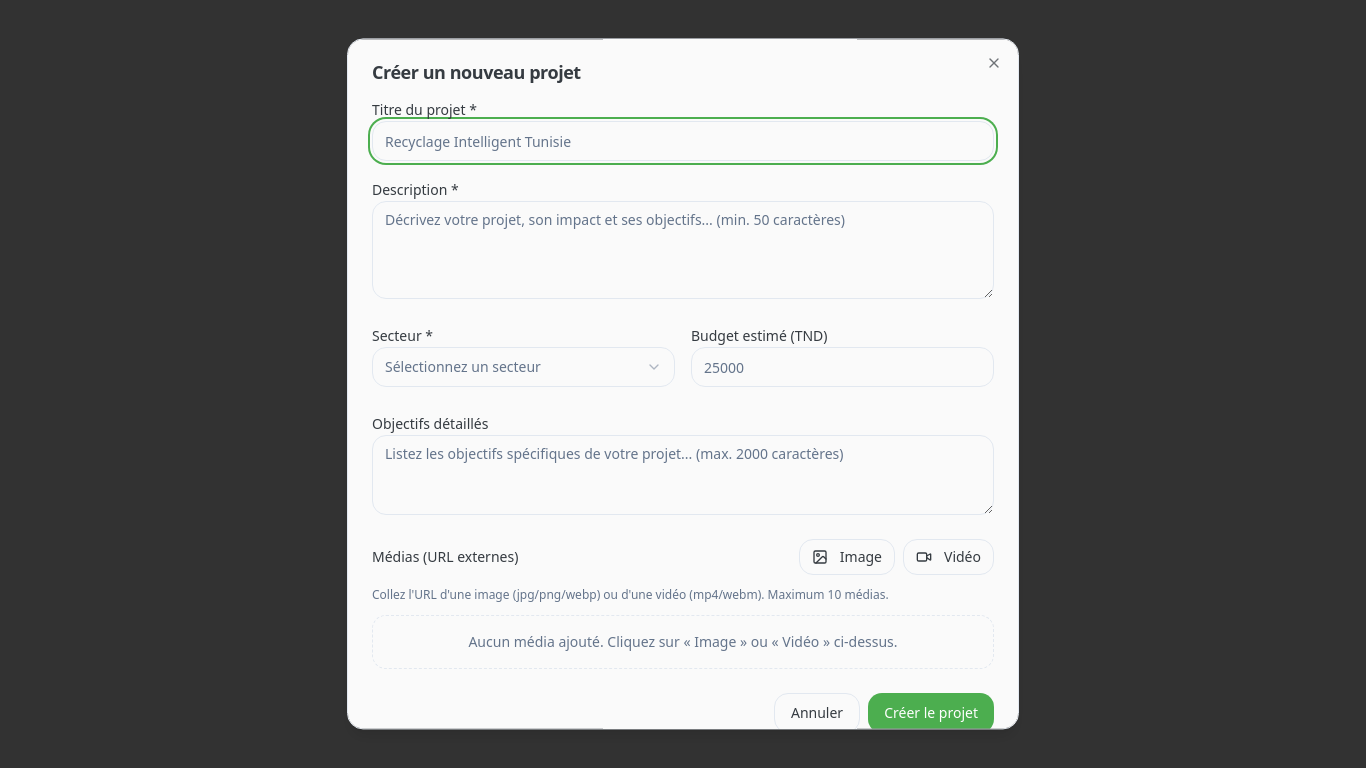
it: CreateProjectModal — submit flow snapshot › removes a media row when the trash button is clicked
Click the button "Image" at (847, 557), box [799,539,895,575]
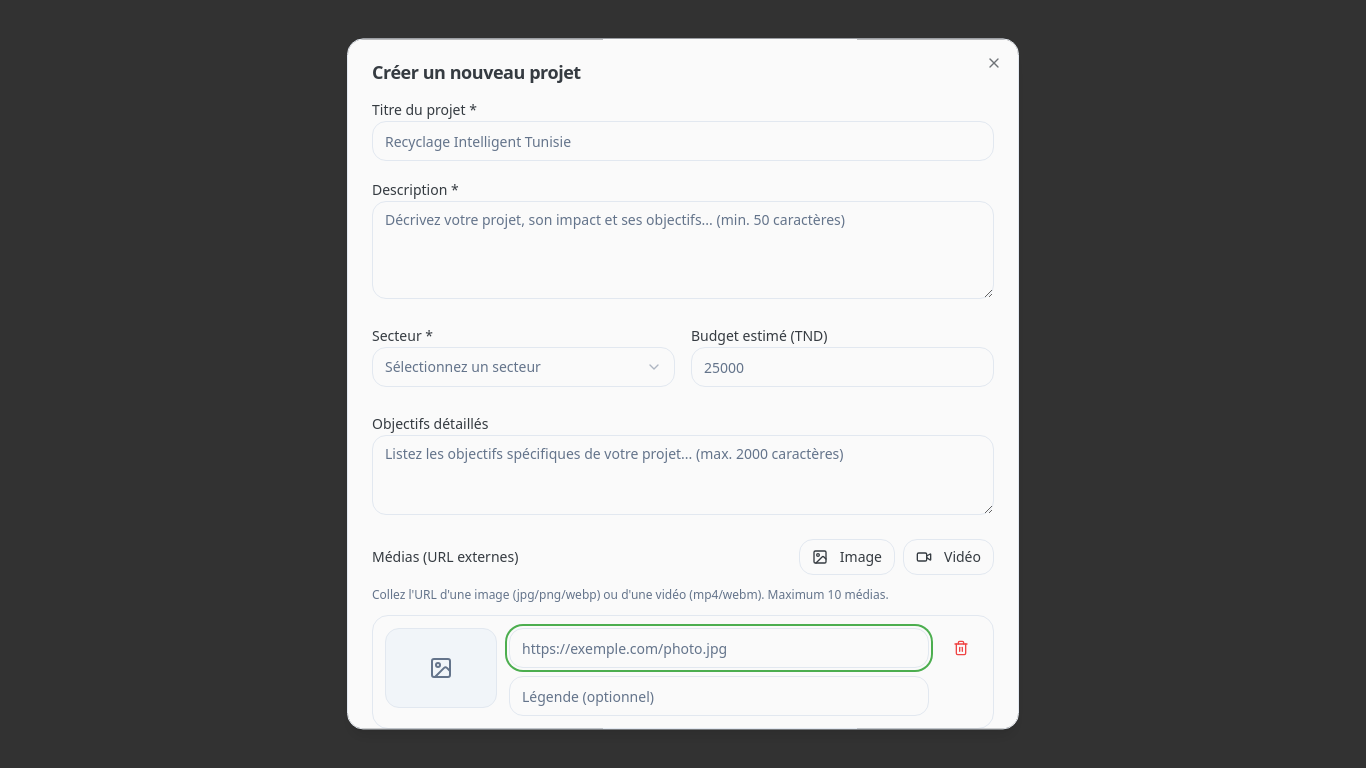
Check: the field with placeholder "https://exemple.com/photo.jpg" is shown, box [509,628,929,668]
Click the button named "Supprimer le média 1" at (961, 648), box [941,628,981,668]
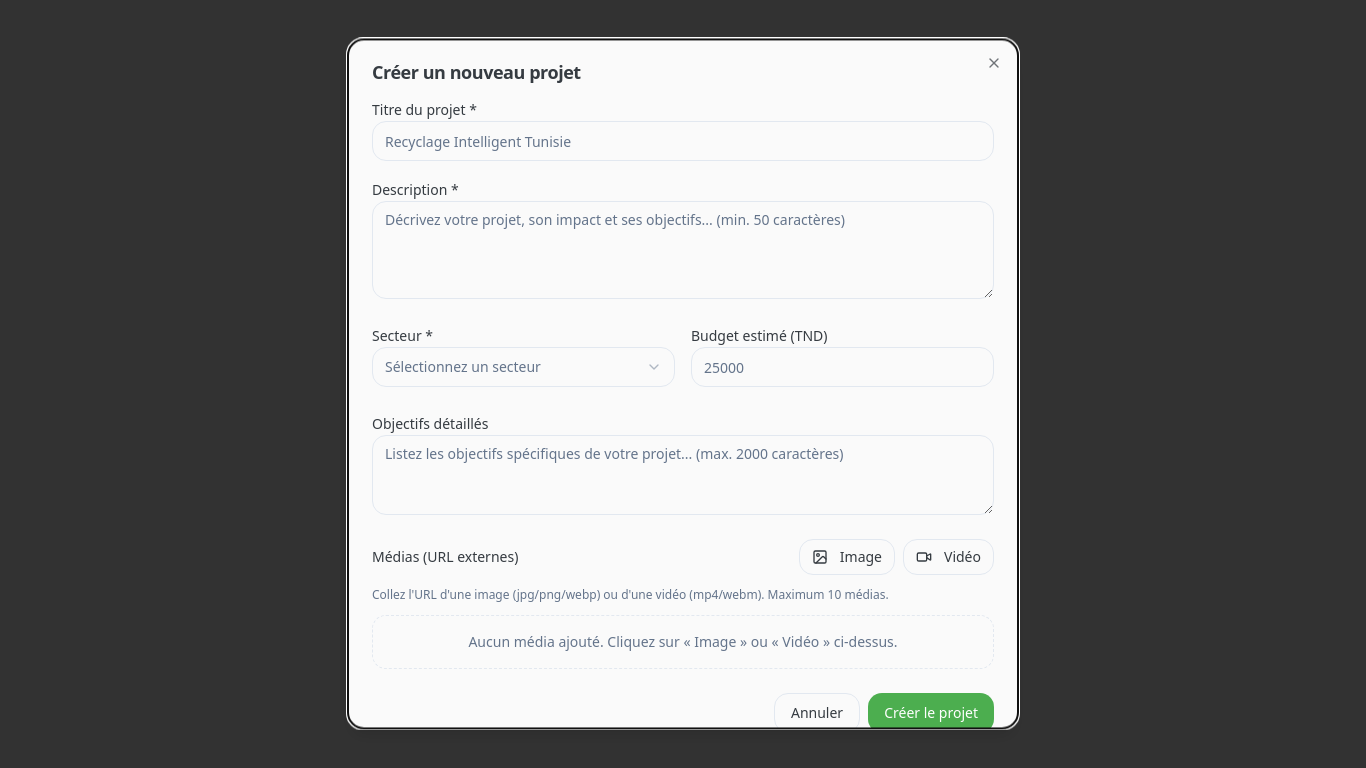
Check: the field with placeholder "https://exemple.com/photo.jpg" is not shown
Check: the text "Aucun média ajouté" is shown, box [468,632,898,651]
